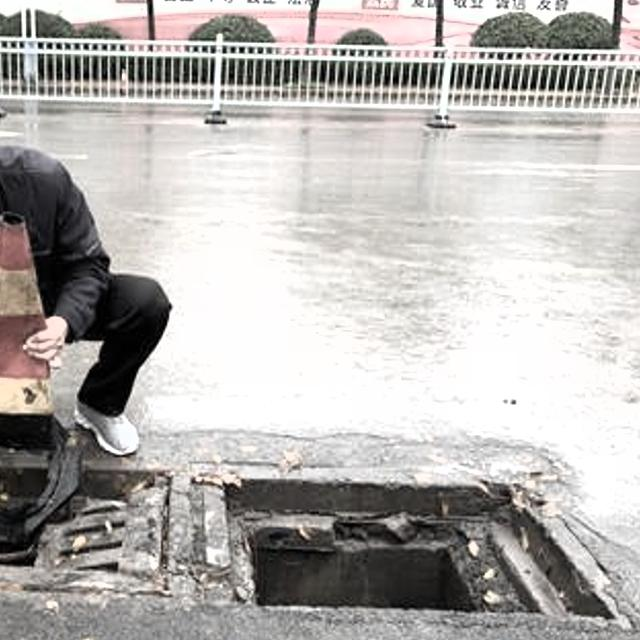lose: (0, 410, 640, 640)
